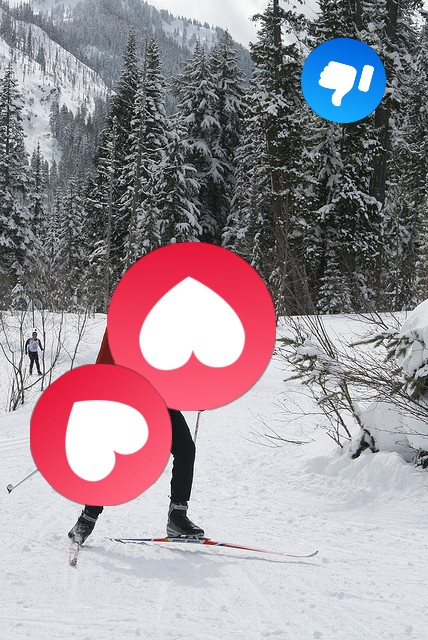like: (301, 38, 386, 123)
love: (107, 242, 276, 411), (30, 364, 172, 506)
